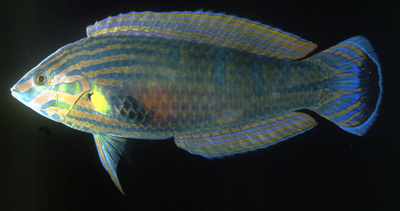fish: (10, 8, 383, 195)
